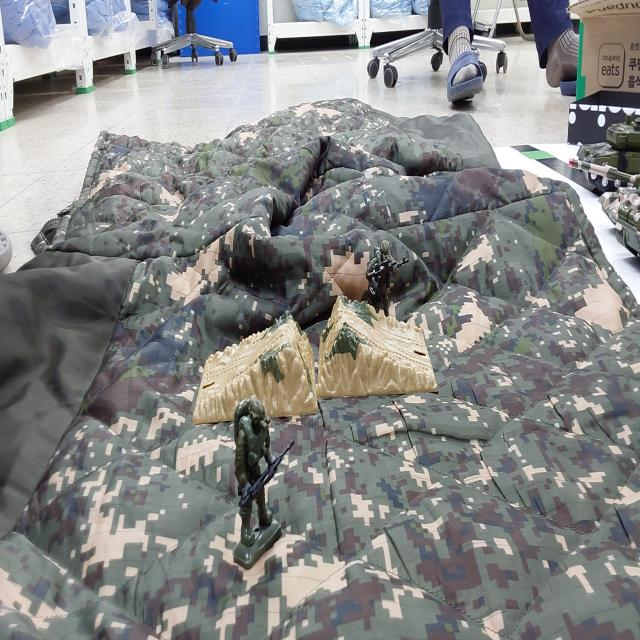enem: (233, 396, 294, 567), (365, 240, 409, 335)
